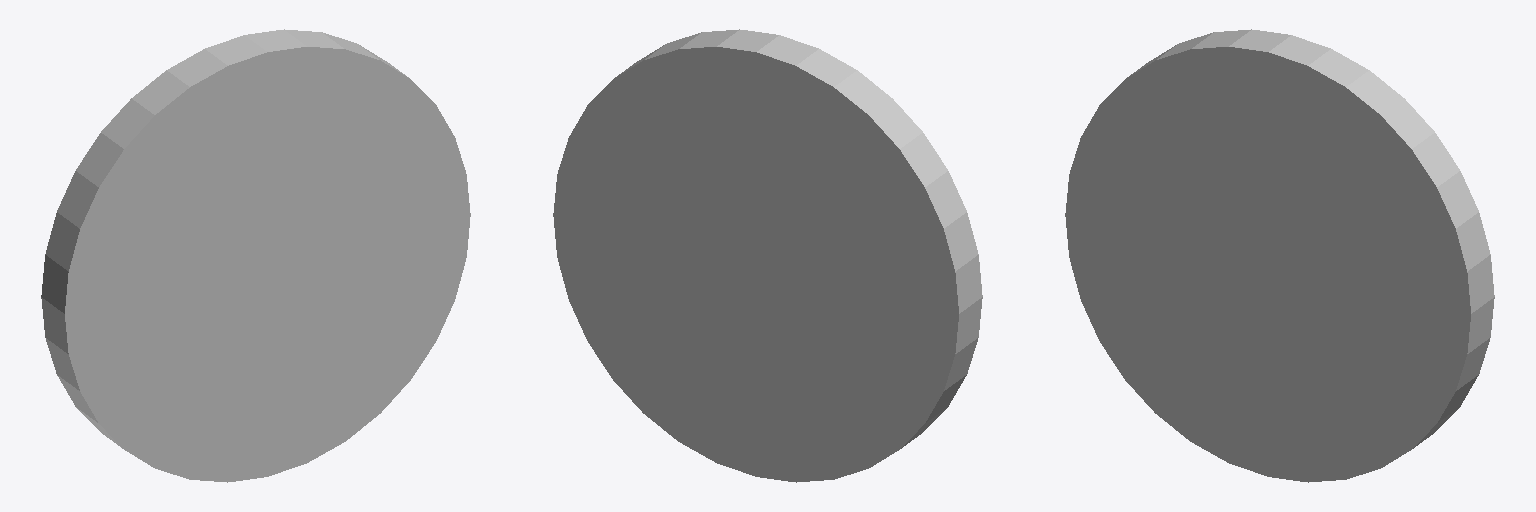
Rendered from target.obj.
3 views of the same model, side by side, from view 1: azimuth 30°, elevation 25°; view 2: azimuth 150°, elevation 25°; view 3: azimuth 330°, elevation 25° (orthographic).
Visible parts, largest first — view 1: 円柱; view 2: 円柱; view 3: 円柱.
Part boxes in pixels (left/top/right/bottom): 円柱: left=41, top=29, right=470, bottom=482; 円柱: left=553, top=29, right=982, bottom=482; 円柱: left=1065, top=29, right=1494, bottom=482.
Size of the model in its own units: 2 by 2 by 0.2.